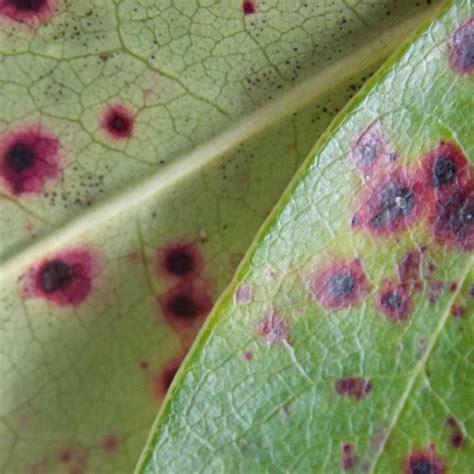black-spot: (0, 84, 152, 338)
